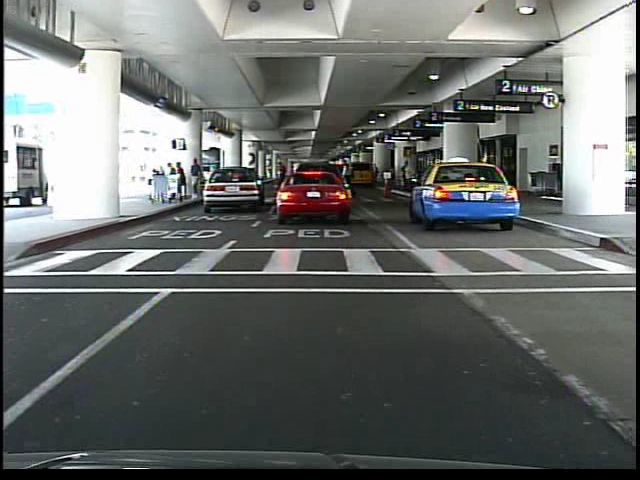person: (274, 159, 291, 206), (342, 158, 355, 201), (403, 162, 417, 197), (193, 158, 204, 201), (400, 158, 412, 194), (327, 167, 337, 202)
